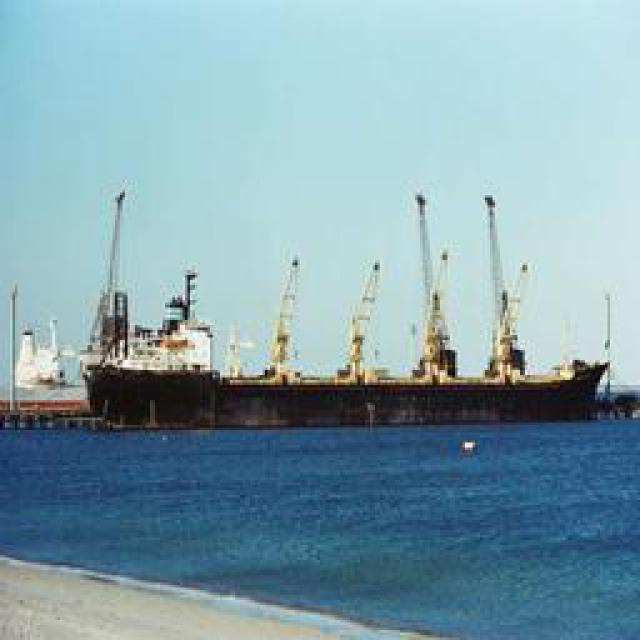Ship: (92, 178, 602, 423)
